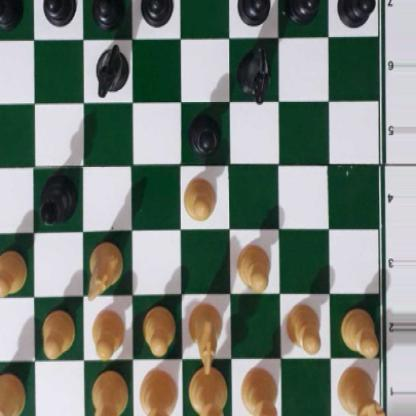black-bishop: (36, 172, 80, 225)
black-knight: (236, 44, 270, 102), (94, 42, 127, 94)
black-pawn: (188, 109, 222, 156), (337, 0, 374, 28), (91, 0, 123, 29), (140, 0, 172, 28), (42, 0, 75, 25), (237, 0, 270, 24), (287, 0, 318, 24), (0, 0, 22, 26)
white-bishop: (88, 368, 128, 416), (240, 367, 279, 416)
white-king: (188, 362, 227, 416)
white-knight: (187, 301, 224, 375), (85, 237, 121, 298)
white-pawn: (285, 299, 322, 352), (340, 305, 378, 356), (235, 240, 271, 290), (141, 303, 175, 354), (39, 306, 74, 355), (90, 309, 124, 359), (182, 175, 216, 220), (0, 249, 27, 295)
white-queen: (138, 367, 180, 416)
white-rook: (338, 360, 382, 416), (0, 366, 24, 416)
